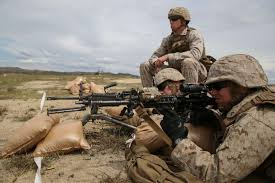gun: (70, 81, 218, 136), (40, 82, 158, 134)
